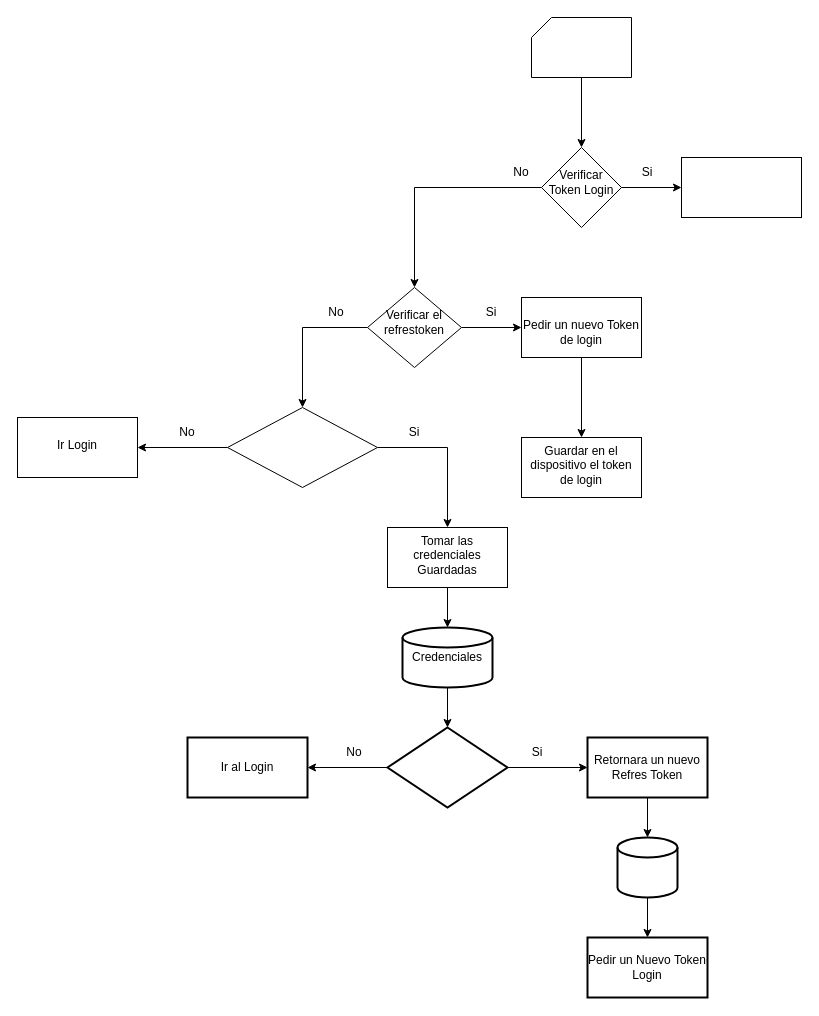
Some shapes in this 819 by 1016 pixel diagram are drawn without their labels. The centre of each missing label's shape, as x and y in pixels:
Guardar: (x=647, y=867)
Mantener Sesion activa: (x=302, y=447)
Pag. Home: (x=581, y=47)
Se mantiene Home: (x=741, y=187)
Son Correctas: (x=447, y=767)
